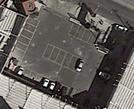parkingspot: (14, 64, 70, 99), (42, 43, 87, 74), (11, 16, 40, 60), (68, 22, 100, 46)
